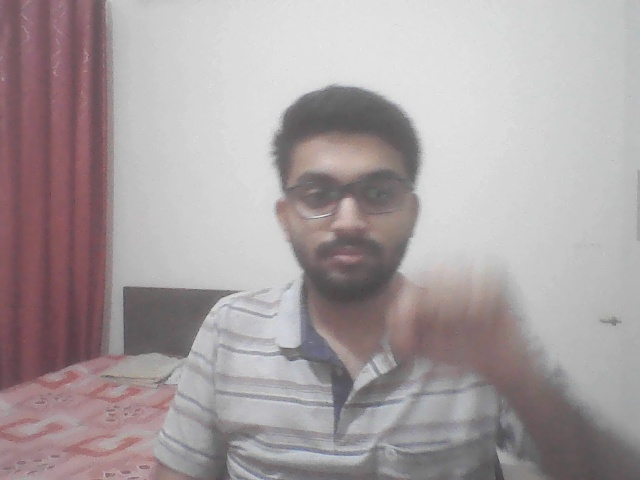yes: (376, 254, 571, 382)
